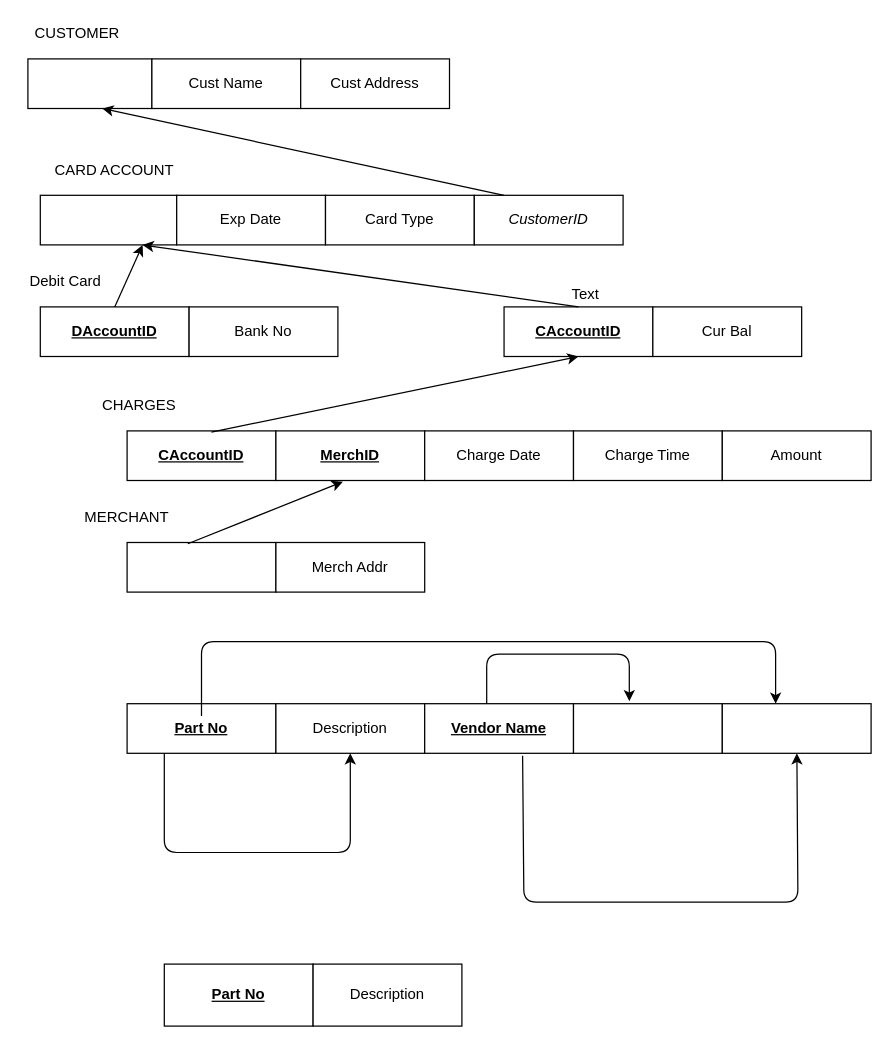
Some shapes in this 893 by 1048 pixel diagram are drawn without their labels. Each missing label, with the centre of its shape:
Account ID: pixel 108 219
Address: pixel 647 727
Customer ID: pixel 89 83
Merch ID: pixel 201 566
Unit cost: pixel 796 727
